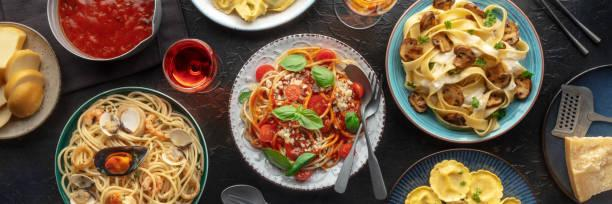Braised Crucian Carp: (227, 32, 382, 195), (383, 0, 546, 145), (51, 85, 214, 204)
